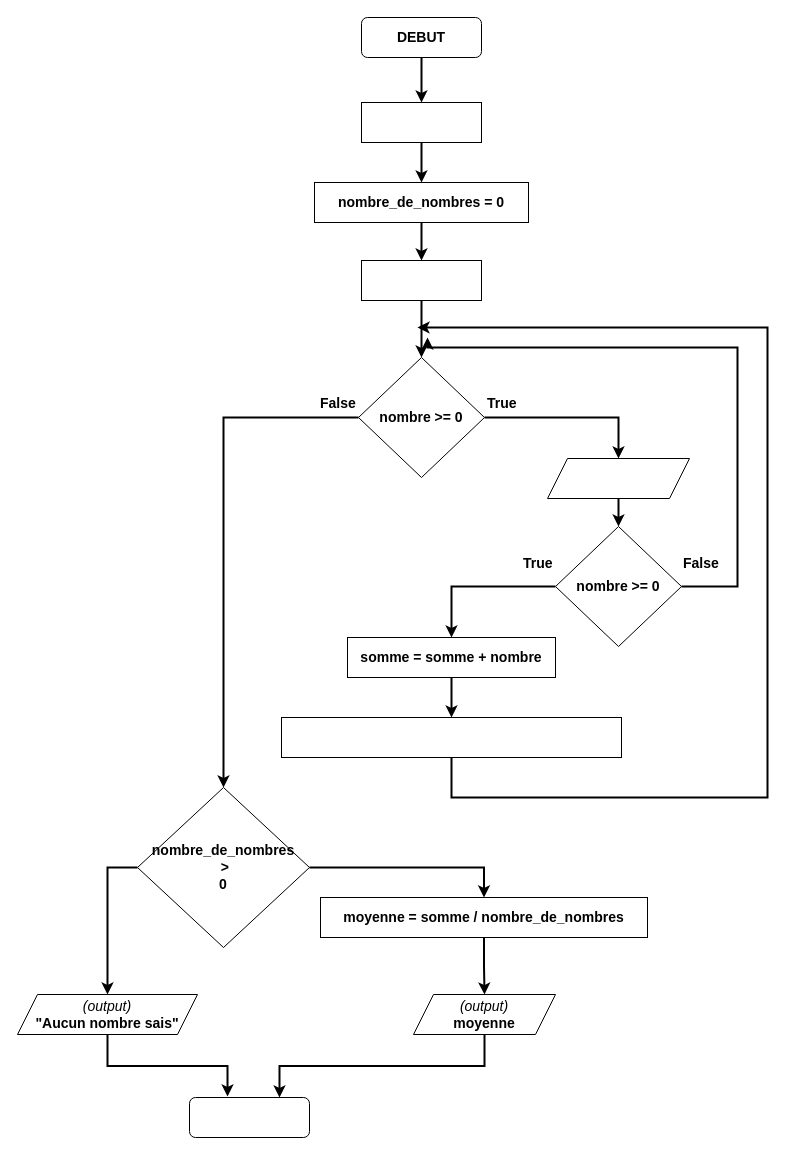
Some shapes in this 794 by 1155 pixel diagram are drawn without their labels. Each missing label, with the centre of its shape:
(input) nombre: (x=618, y=478)
FIN: (x=249, y=1117)
nombre = 0: (x=421, y=280)
nombre_de_nombres = nombre_de_nombres + 1: (x=451, y=737)
somme = 0: (x=421, y=122)
